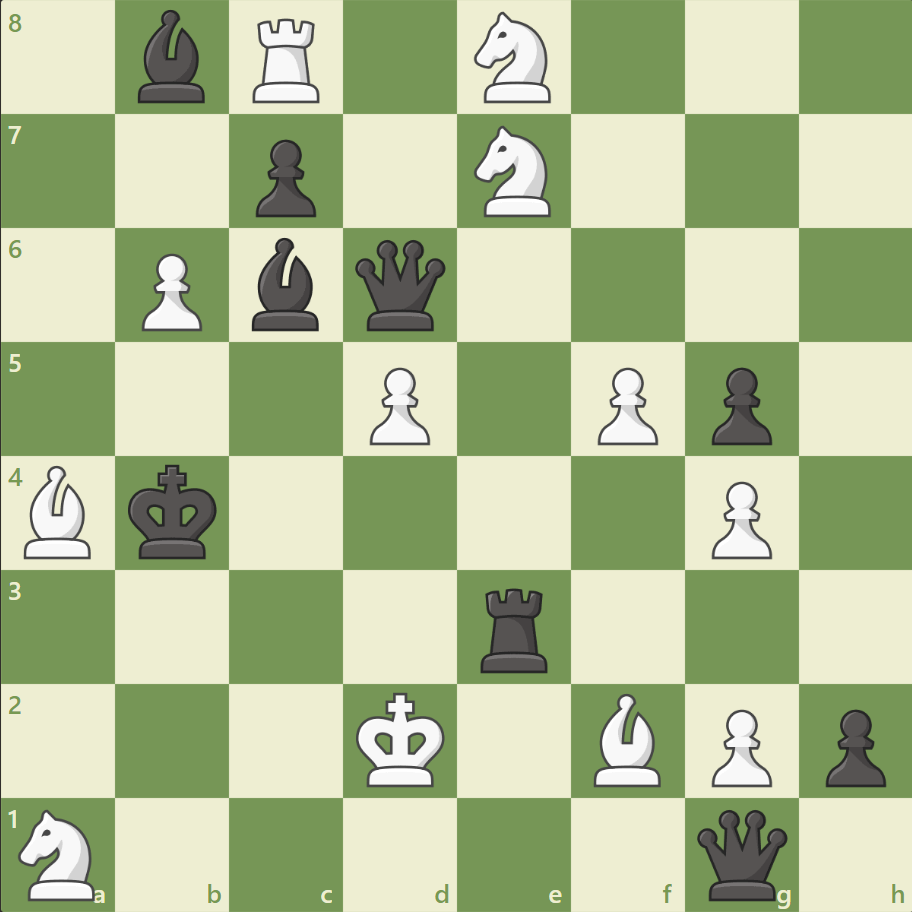B: (17, 460, 101, 563), (585, 687, 669, 790)
K: (351, 685, 451, 793)
N: (465, 7, 562, 110), (465, 121, 562, 223), (11, 802, 108, 904)
P: (133, 246, 208, 337), (701, 473, 776, 564), (701, 700, 776, 791), (361, 359, 435, 450), (588, 359, 662, 450)
R: (246, 12, 329, 109)
b: (131, 6, 215, 109), (244, 233, 328, 336)
k: (124, 458, 224, 566)
p: (247, 132, 322, 223), (701, 359, 776, 450), (815, 700, 889, 791)
q: (351, 236, 450, 335), (691, 804, 790, 903)
r: (473, 579, 556, 676)
